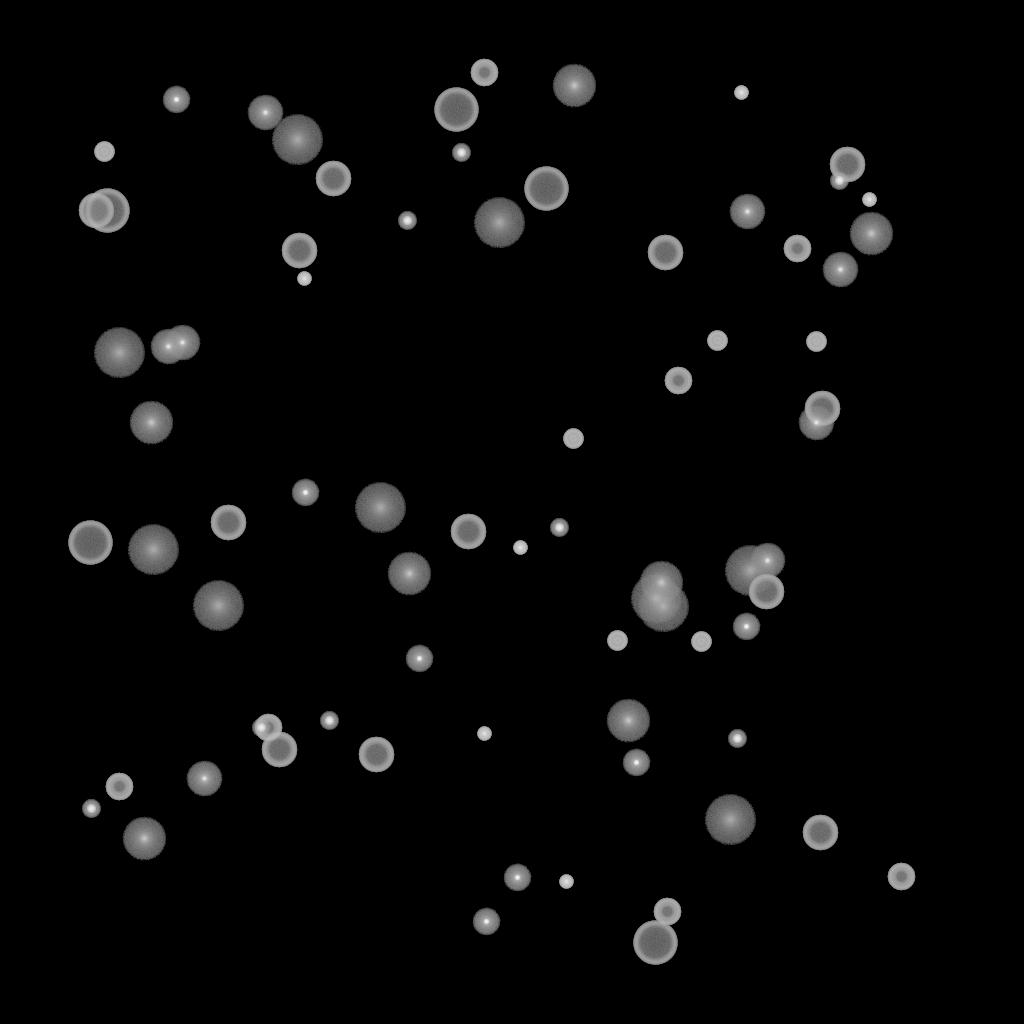depth:-10: (503, 864, 531, 892), (291, 479, 319, 507), (162, 86, 190, 114), (622, 749, 650, 777), (405, 645, 433, 673), (732, 613, 760, 641), (472, 908, 500, 936)
depth:-20: (830, 172, 848, 190), (82, 800, 100, 818), (550, 519, 568, 537), (452, 144, 470, 162), (252, 719, 270, 737), (728, 730, 746, 748), (398, 212, 416, 230), (320, 712, 338, 730)
depth:-30: (513, 541, 527, 555), (862, 193, 876, 207), (477, 727, 491, 741), (297, 272, 311, 286), (559, 875, 573, 889), (734, 86, 748, 100)
depth:-40: (691, 632, 711, 652), (607, 631, 627, 651), (707, 331, 727, 351), (94, 142, 114, 162), (806, 332, 826, 352), (563, 429, 583, 449)
depth:-50: (653, 898, 681, 926), (783, 235, 811, 263), (887, 863, 915, 891), (470, 59, 498, 87), (254, 714, 282, 742), (105, 773, 133, 801), (664, 367, 692, 395)
depth:-60: (450, 514, 486, 550), (78, 193, 114, 229), (802, 815, 838, 851), (281, 233, 317, 269), (829, 147, 865, 183), (748, 574, 784, 610), (210, 505, 246, 541), (647, 235, 683, 271), (804, 391, 840, 427), (261, 732, 297, 768), (315, 161, 351, 197), (358, 737, 394, 773)
depth:-70: (85, 189, 129, 233), (68, 521, 112, 565), (434, 88, 478, 132), (524, 167, 568, 211), (633, 921, 677, 965)
depth:0: (749, 543, 785, 579), (164, 325, 200, 361), (798, 405, 834, 441), (247, 95, 283, 131), (150, 329, 186, 365), (186, 761, 222, 797), (822, 252, 858, 288), (729, 194, 765, 230)
depth:10: (639, 561, 683, 605), (129, 401, 173, 445), (552, 64, 596, 108), (122, 817, 166, 861), (387, 552, 431, 596), (606, 699, 650, 743), (849, 212, 893, 256)
depth:20: (637, 582, 689, 632), (473, 198, 525, 248), (192, 581, 244, 631), (704, 795, 756, 845), (630, 574, 682, 624), (271, 115, 323, 165), (127, 525, 179, 575), (354, 483, 406, 533), (724, 546, 776, 596), (93, 328, 145, 378)
